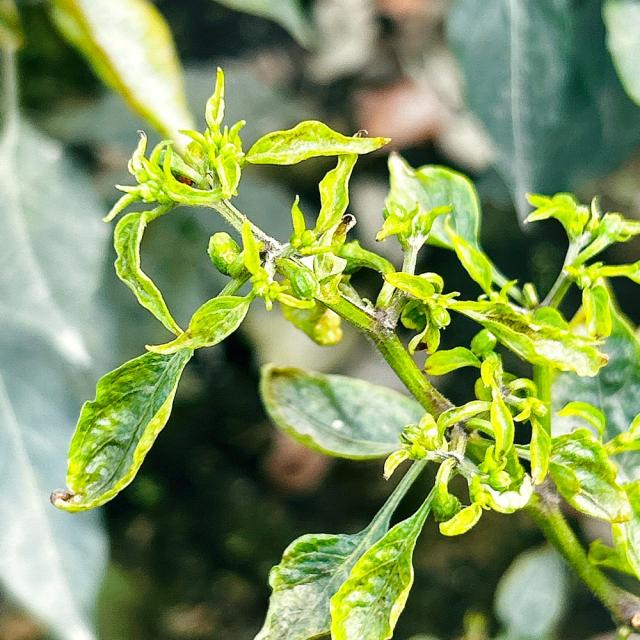Chilli_Leaf_Curl: (51, 65, 638, 638), (50, 65, 392, 513), (49, 345, 193, 513), (257, 362, 428, 461)
